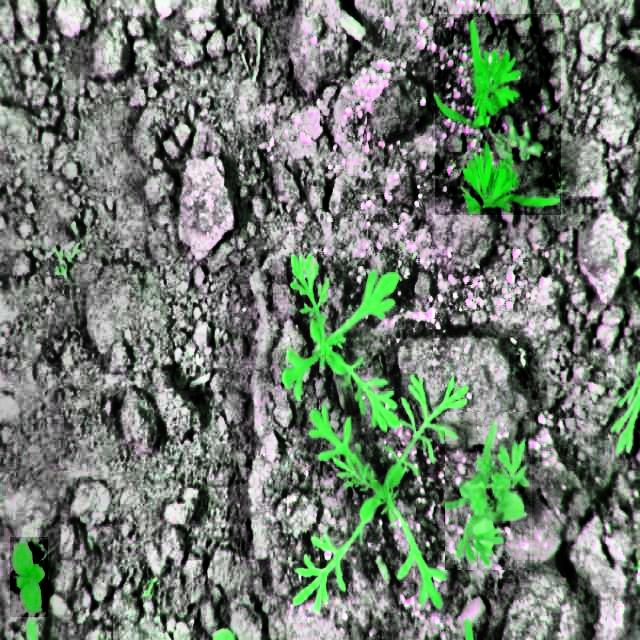Weeds: (10, 537, 48, 617)
undefined: (282, 252, 468, 619), (435, 14, 561, 215), (446, 412, 534, 570), (605, 356, 639, 458)
